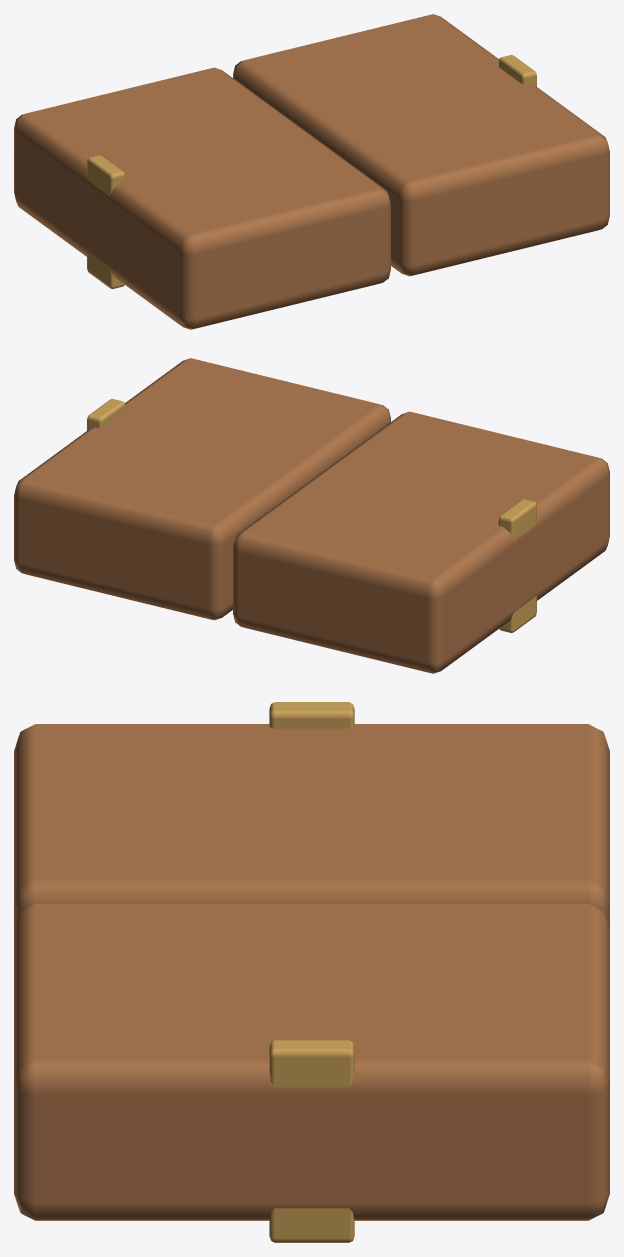
The model's file is wp-livre-de-grimoire.glb.
3 renders of one model, top to bottom at view 1: azimuth 30°, elevation 25°; view 2: azimuth 150°, elevation 25°; view 3: azimuth 270°, elevation 25°, orthographic. The views are drawn at different scales.
Parts seen in each view (by area): view 1: wp-livre-de-grimoire; view 2: wp-livre-de-grimoire; view 3: wp-livre-de-grimoire.
Part boxes in pixels (x1,y1,x2,y2): wp-livre-de-grimoire: (14,14,609,329); wp-livre-de-grimoire: (14,358,609,673); wp-livre-de-grimoire: (14,702,609,1242).
Bounding box in the file's own units: 0.35 × 0.09 × 0.25.
